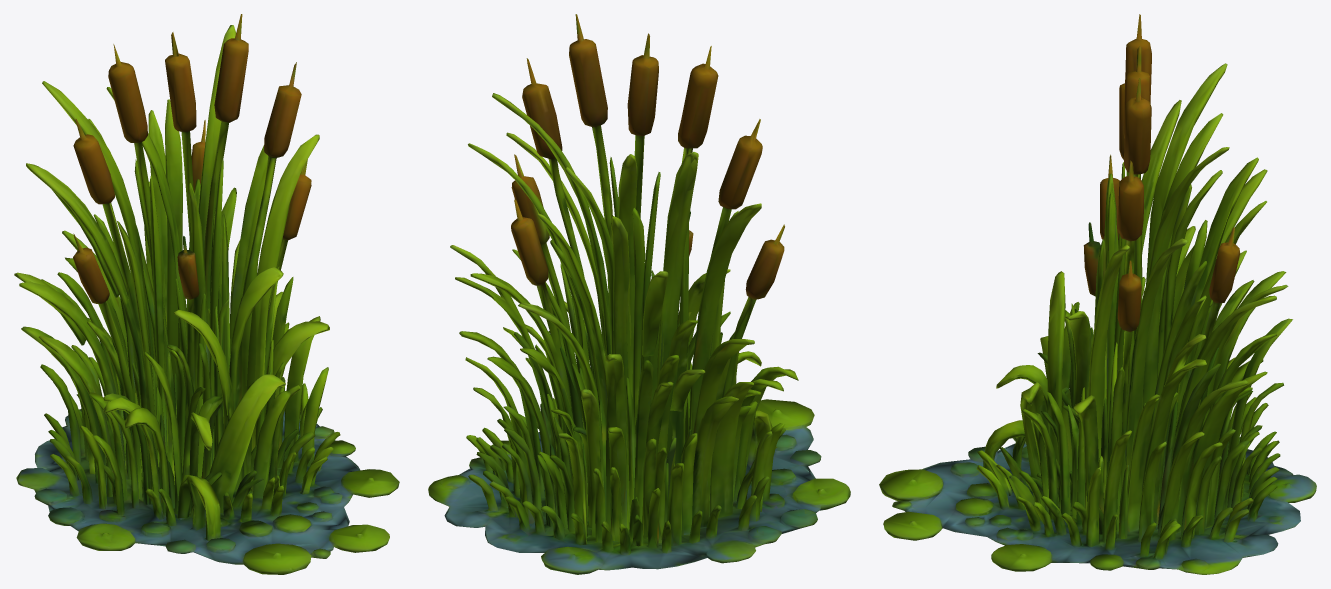
The model's file is cattails2.opt.glb.
The picture shows the model from 3 angles, left to right: view 1: azimuth 30°, elevation 25°; view 2: azimuth 150°, elevation 25°; view 3: azimuth 270°, elevation 25°; orthographic projection. The views are drawn at different scales.
Visible parts, largest first — view 1: node_0; view 2: node_0; view 3: node_0.
Boxes of the visible parts, bbox=[...] form: node_0: bbox=[14, 14, 399, 574]; node_0: bbox=[428, 14, 850, 574]; node_0: bbox=[879, 14, 1316, 574].
Size of the model in its own units: 0.6507 by 0.895 by 0.7882.
Materials: 1 (1 with a texture image).
